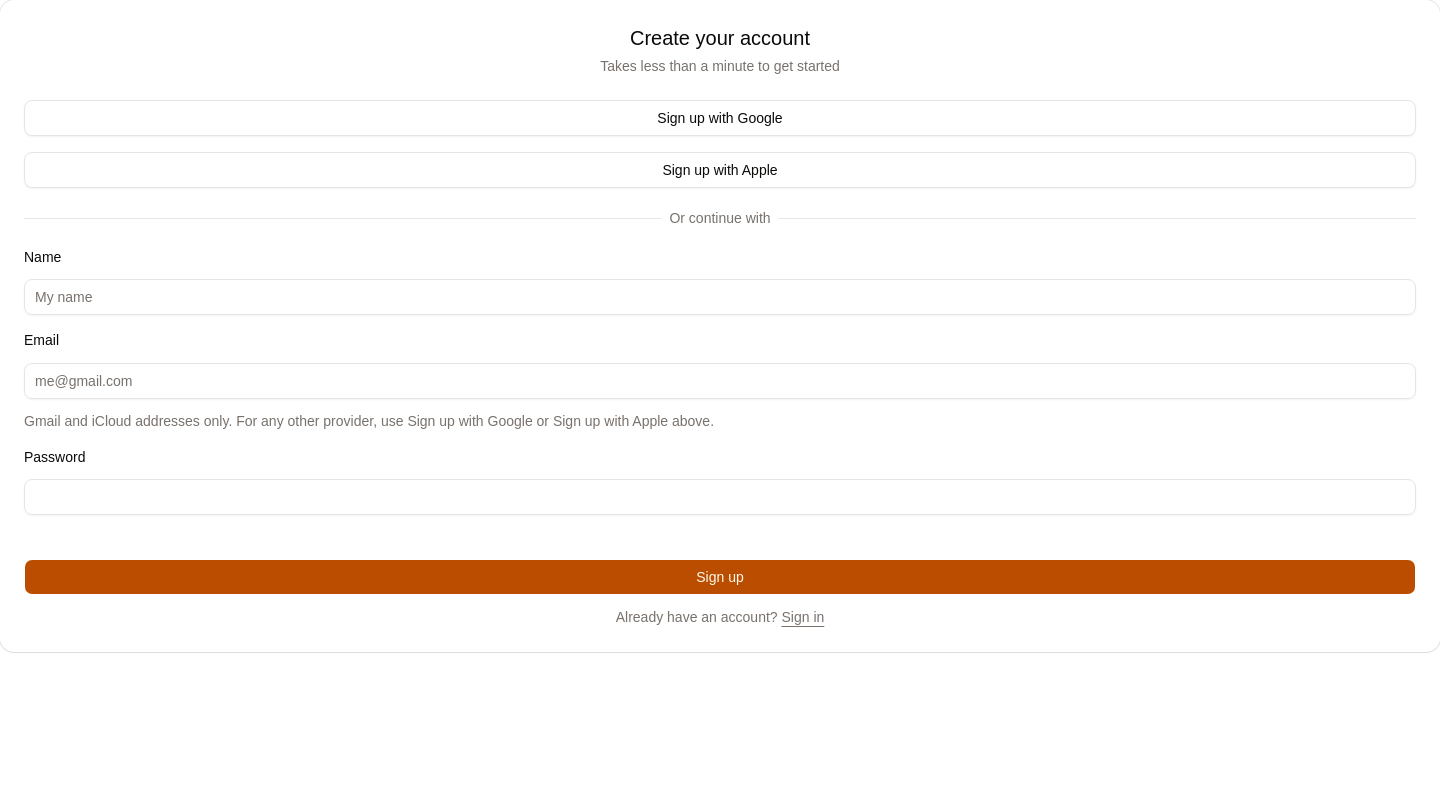
RegisterForm › shows error message when registration fails
Type "Alice Smith" into the field labelled "Name" at [720, 297], box [24,279,1416,315]
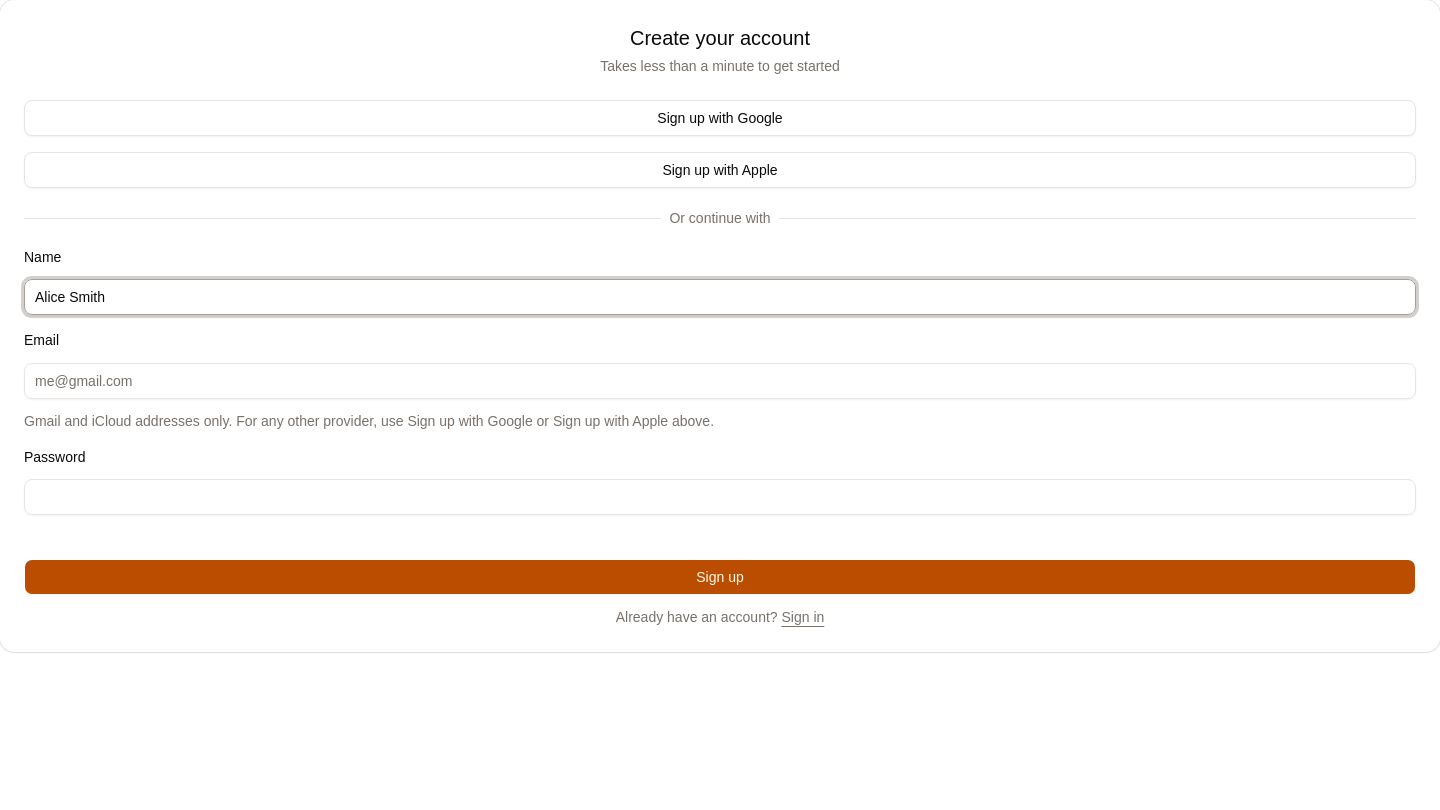
Type "alice@example.com" into the field labelled "Email" at [720, 380], box [24,362,1416,398]
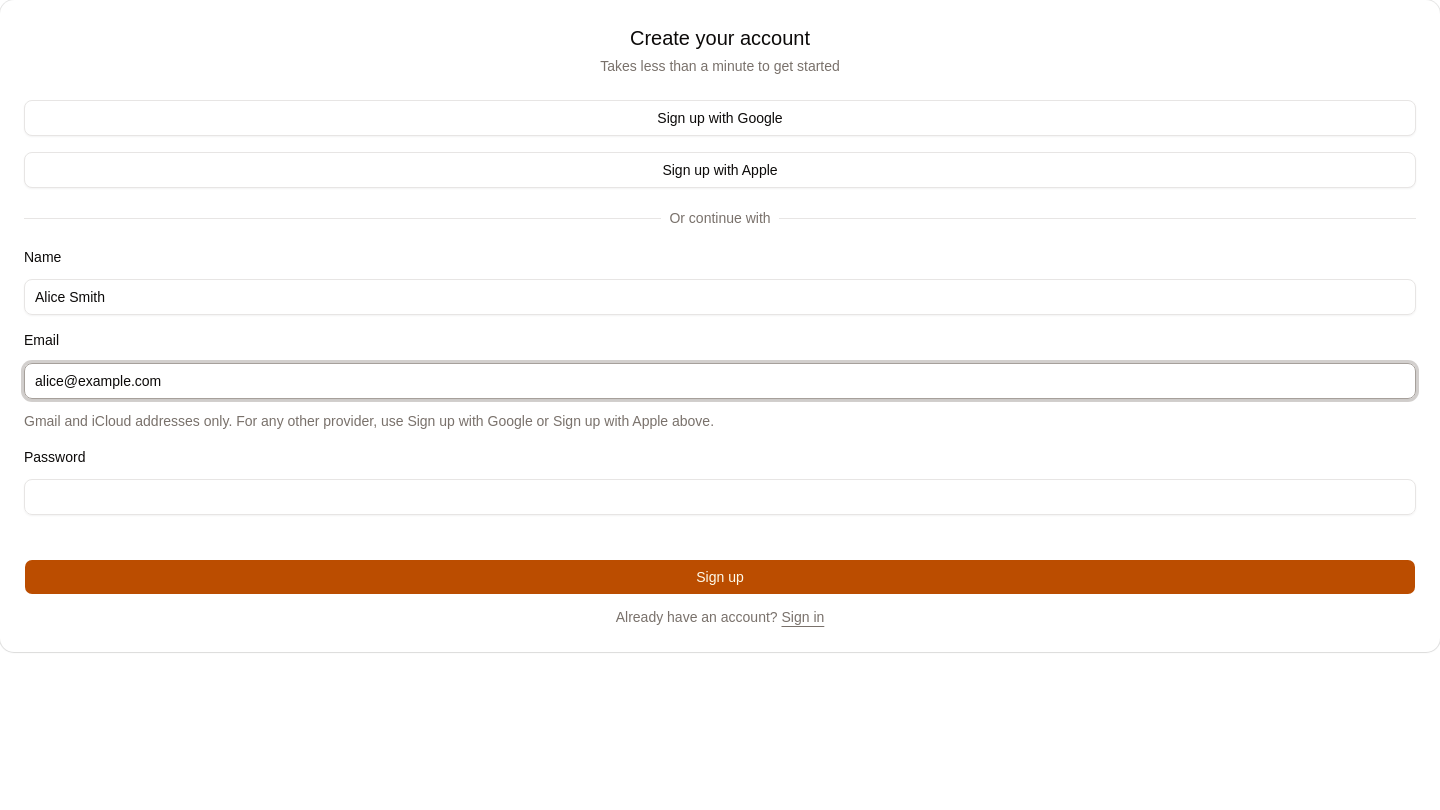
Type "securepassword" into the password field labelled "Password" at [720, 497], box [24,479,1416,515]
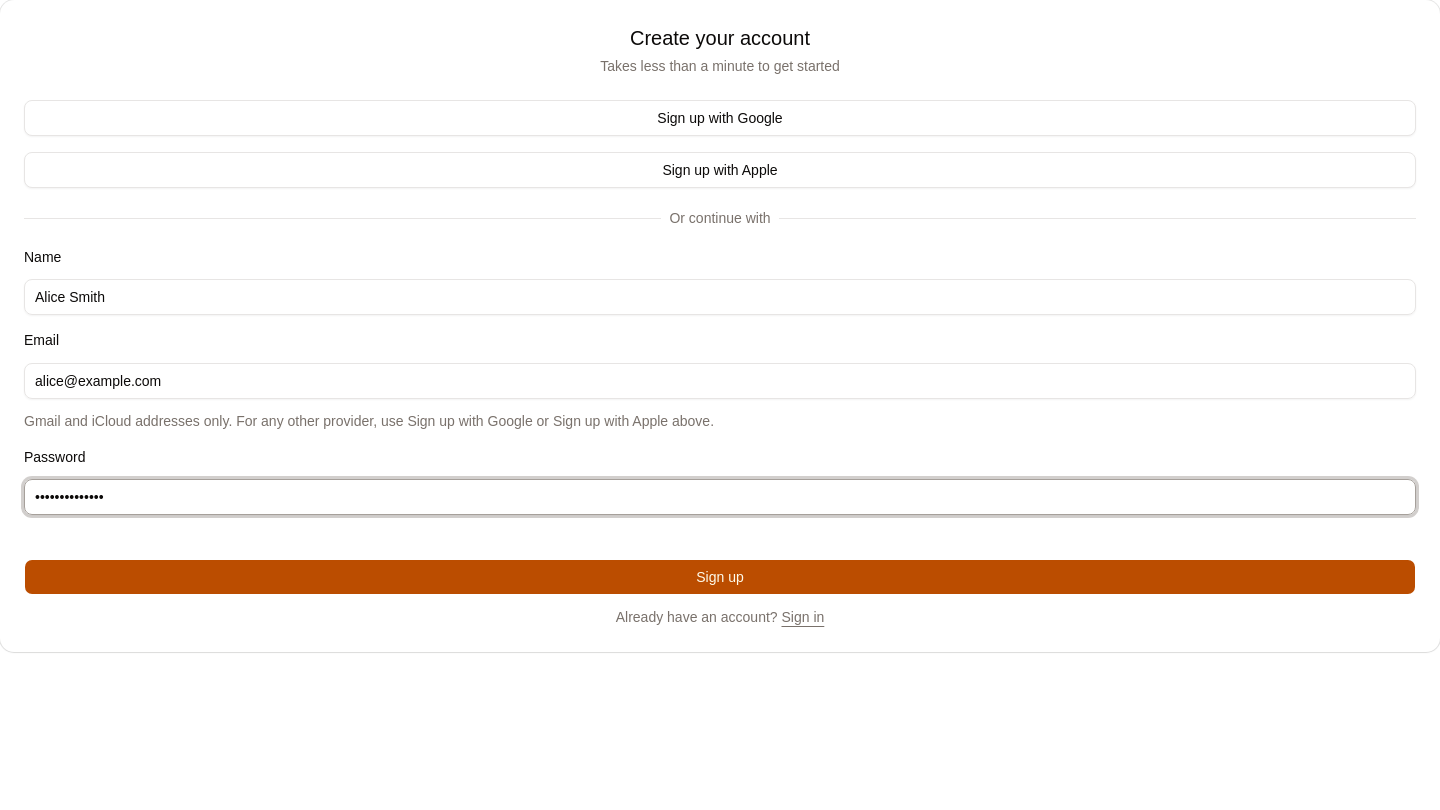
Click the button "Sign up" at [720, 577], box [24,559,1416,595]
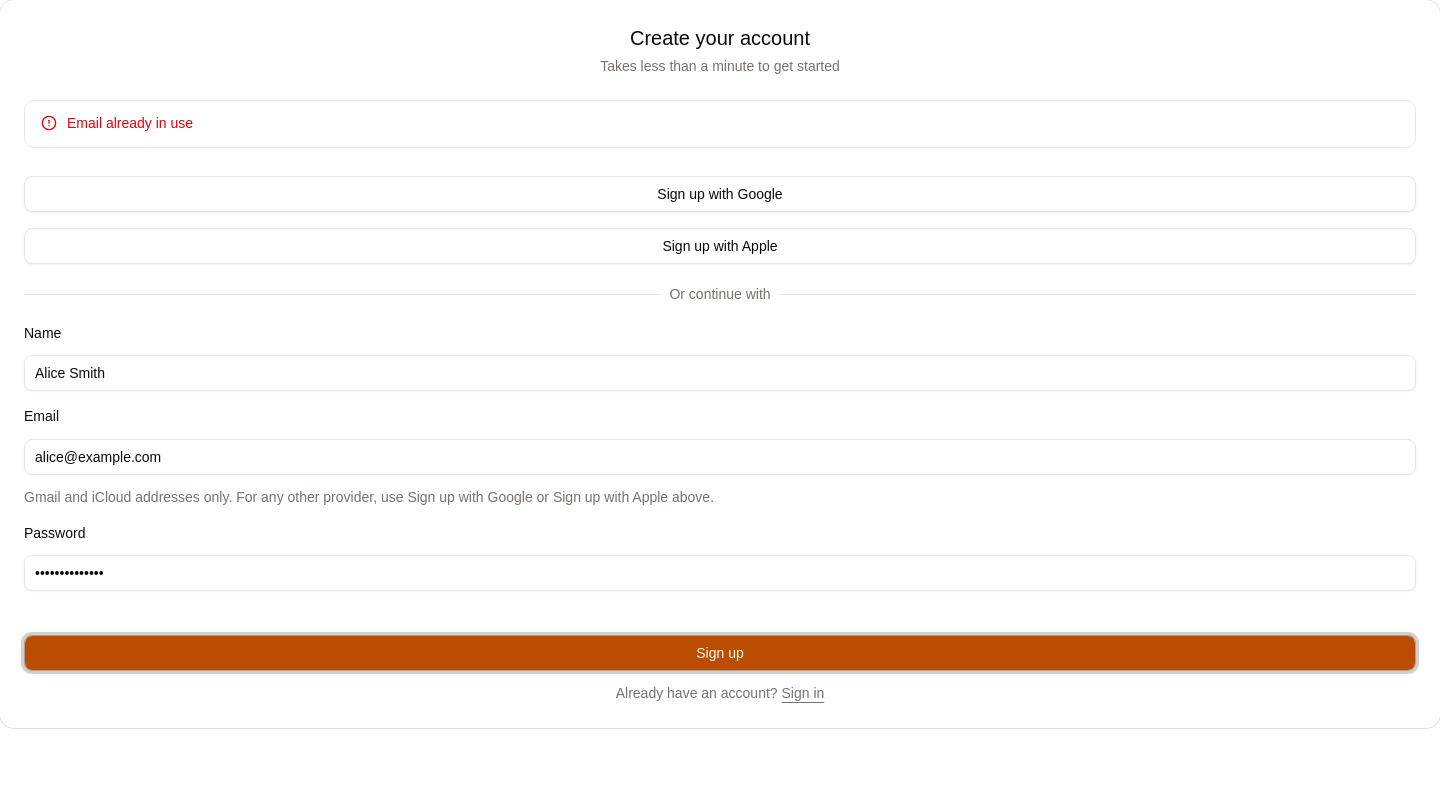
Expected: the text "Email already in use" is shown, [67,115,193,131]
